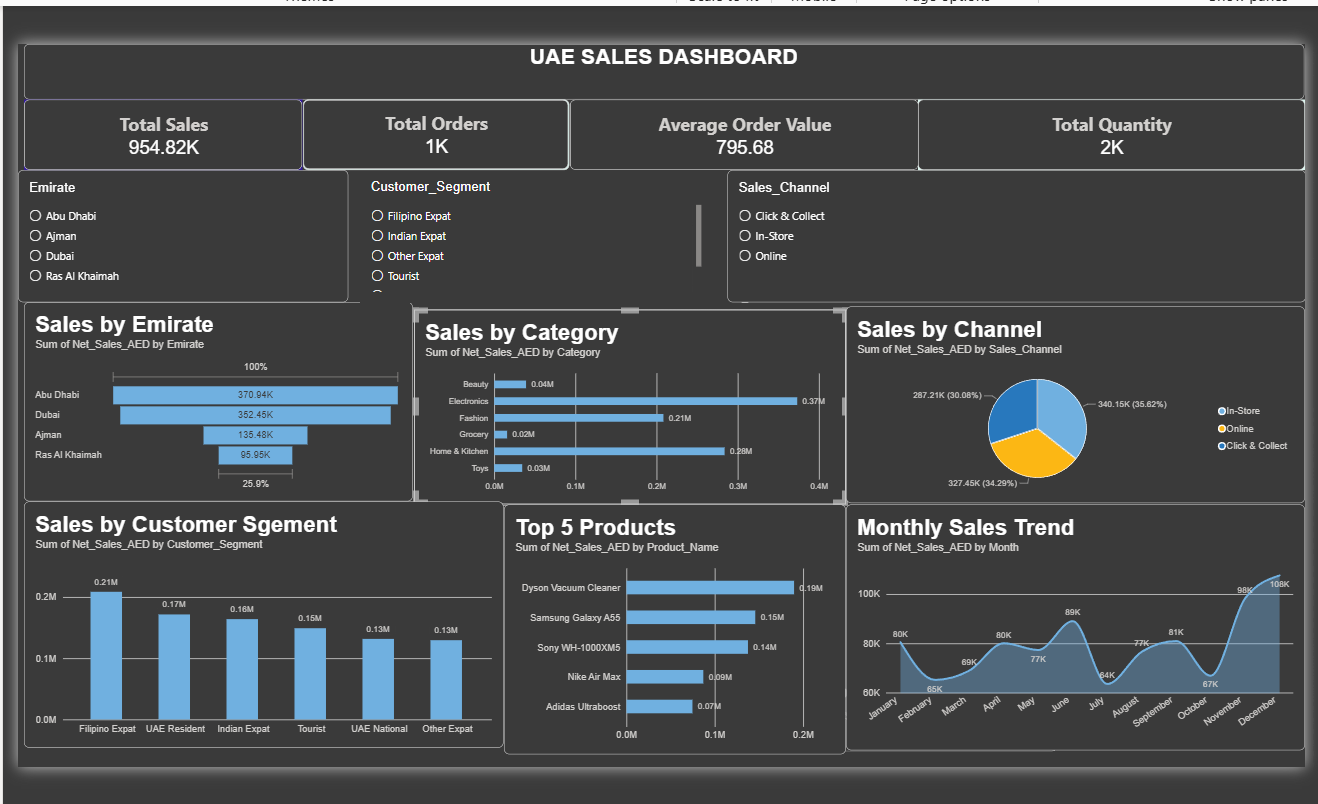

The dashboard page shown, as its layout file describes it:
{"tool":"powerbi","page":{"name":"Page 1","canvas":[1920,1080],"ordinal":0},"visuals":[{"type":"cardVisual","title":"Total Sales (AED)","fields":{"Data":["Sum(Sales_Data.Net_Sales_AED)"]},"box":[1085,950,465,105],"z":0},{"type":"clusteredBarChart","title":"Sales by Category","fields":{"Category":["Sales_Data.Category"],"Y":["Sum(Sales_Data.Net_Sales_AED)"]},"box":[590,395,645,292.5],"z":1000},{"type":"pieChart","title":"Sales by Channel","fields":{"Category":["Sales_Data.Sales_Channel"],"Y":["Sum(Sales_Data.Net_Sales_AED)"]},"box":[1235.2,391.6,684.8,293.1],"z":2000},{"type":"lineStackedColumnComboChart","title":"Sales by Customer Sgement","fields":{"Category":["Sales_Data.Customer_Segment"],"Y":["Sum(Sales_Data.Net_Sales_AED)"]},"box":[10,682.5,715,367.5],"z":3000},{"type":"funnel","title":"Sales by Emirate","fields":{"Category":["Sales_Data.Emirate"],"Y":["Sum(Sales_Data.Net_Sales_AED)"]},"box":[10,385,580,297.5],"z":4000},{"type":"clusteredBarChart","title":"Top 5 Products","fields":{"Category":["Sales_Data.Product_Name"],"Y":["Sum(Sales_Data.Net_Sales_AED)"]},"box":[725,687.5,510,372.5],"z":5000},{"type":"lineChart","title":"Monthly Sales Trend","fields":{"Category":["Sales_Data.Order_Date.Variation.Date Hierarchy.Month"],"Y":["Sum(Sales_Data.Net_Sales_AED)"]},"box":[1235.2,687,684.8,367],"z":6000},{"type":"listSlicer","fields":{"Values":["Sales_Data.Emirate"]},"box":[0,187.5,492.5,197.5],"z":7000},{"type":"listSlicer","fields":{"Values":["Sales_Data.Customer_Segment"]},"box":[510,187.5,525,197.5],"z":8000},{"type":"listSlicer","fields":{"Values":["Sales_Data.Sales_Channel"]},"box":[1057.5,187.5,862.5,197.5],"z":9000},{"type":"textbox","box":[0,900,258,150],"z":10000},{"type":"textbox","box":[10,0,1910,82.5],"z":11000},{"type":"cardVisual","fields":{"Data":["Sales_Data.Total Orders"]},"box":[425,82.5,397.5,105],"z":12000},{"type":"cardVisual","fields":{"Data":["Sales_Data.Average Order Value"]},"box":[822.5,82.5,520,105],"z":13000},{"type":"cardVisual","fields":{"Data":["Sales_Data.Total Quantity"]},"box":[1342.7,82.8,577.3,105.2],"z":14000},{"type":"cardVisual","fields":{"Data":["Sales_Data.Total Sales"]},"box":[10,82.5,415,105],"z":15000}]}

Visuals, with their boxes on the page's 1920x1080 design canvas (x1, y1, x2, y2). These are canvas units, not pixel positions in the 1318x804 screenshot, which may show the page scaled, cropped or inside an application window:
"Total Sales (AED)" cardVisual: region(1085, 950, 1550, 1055)
"Sales by Category" clusteredBarChart: region(590, 395, 1235, 688)
"Sales by Channel" pieChart: region(1235, 392, 1920, 685)
"Sales by Customer Sgement" lineStackedColumnComboChart: region(10, 682, 725, 1050)
"Sales by Emirate" funnel: region(10, 385, 590, 682)
"Top 5 Products" clusteredBarChart: region(725, 688, 1235, 1060)
"Monthly Sales Trend" lineChart: region(1235, 687, 1920, 1054)
listSlicer - Sales_Data.Emirate: region(0, 188, 492, 385)
listSlicer - Sales_Data.Customer_Segment: region(510, 188, 1035, 385)
listSlicer - Sales_Data.Sales_Channel: region(1058, 188, 1920, 385)
textbox: region(0, 900, 258, 1050)
textbox: region(10, 0, 1920, 82)
cardVisual - Sales_Data.Total Orders: region(425, 82, 822, 188)
cardVisual - Sales_Data.Average Order Value: region(822, 82, 1342, 188)
cardVisual - Sales_Data.Total Quantity: region(1343, 83, 1920, 188)
cardVisual - Sales_Data.Total Sales: region(10, 82, 425, 188)
